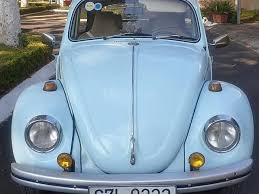volkswagen: (6, 0, 256, 193)
